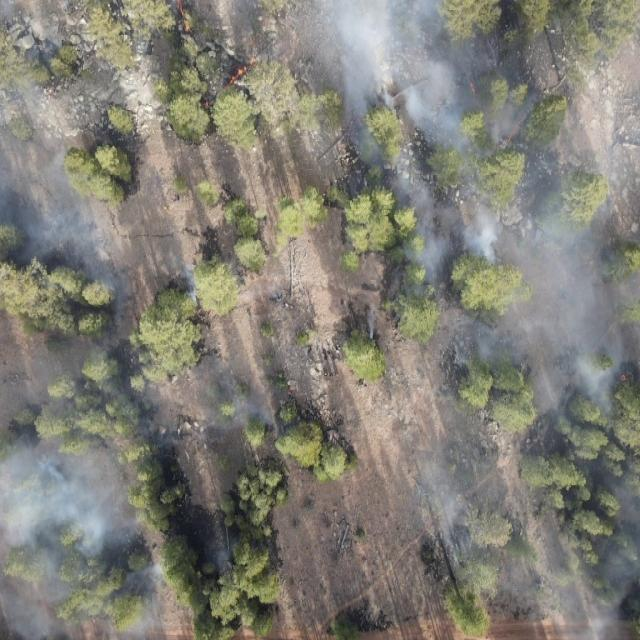fire: (227, 57, 256, 91), (176, 0, 196, 31), (499, 119, 522, 145), (466, 78, 478, 94), (616, 373, 629, 385), (204, 98, 212, 110)
smoke: (440, 0, 640, 421), (287, 0, 538, 292), (0, 376, 167, 640), (411, 449, 640, 640), (2, 0, 120, 308), (206, 394, 276, 438), (166, 244, 202, 312), (246, 278, 288, 310), (359, 308, 381, 346)
